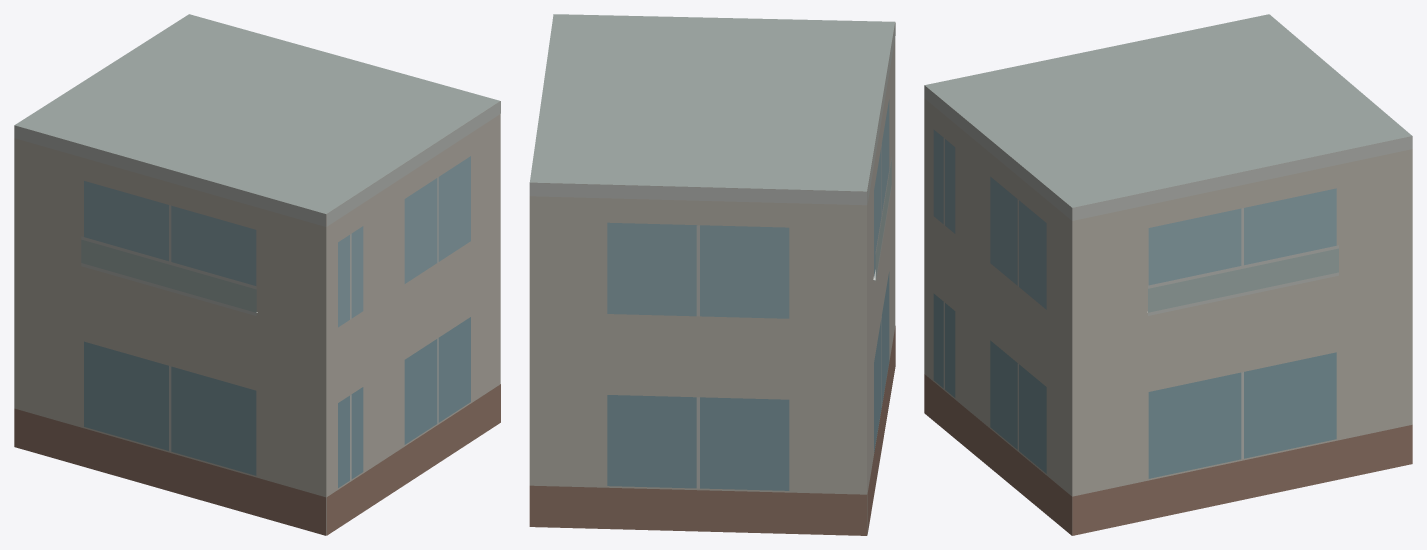
Rendered from survey-upis-32614795.glb.
3 views of the same model, side by side, from view 1: azimuth 30°, elevation 25°; view 2: azimuth 150°, elevation 25°; view 3: azimuth 270°, elevation 25° (orthographic). The views are drawn at different scales.
Parts seen in each view (by area): view 1: survey-upis-32614795.tmp; view 2: survey-upis-32614795.tmp; view 3: survey-upis-32614795.tmp.
Boxes of the visible parts, bbox=[...] form: survey-upis-32614795.tmp: bbox=[14, 14, 500, 535]; survey-upis-32614795.tmp: bbox=[529, 14, 895, 535]; survey-upis-32614795.tmp: bbox=[924, 14, 1412, 535].
Size of the model in its own units: 7.74 by 6.1 by 8.24.
